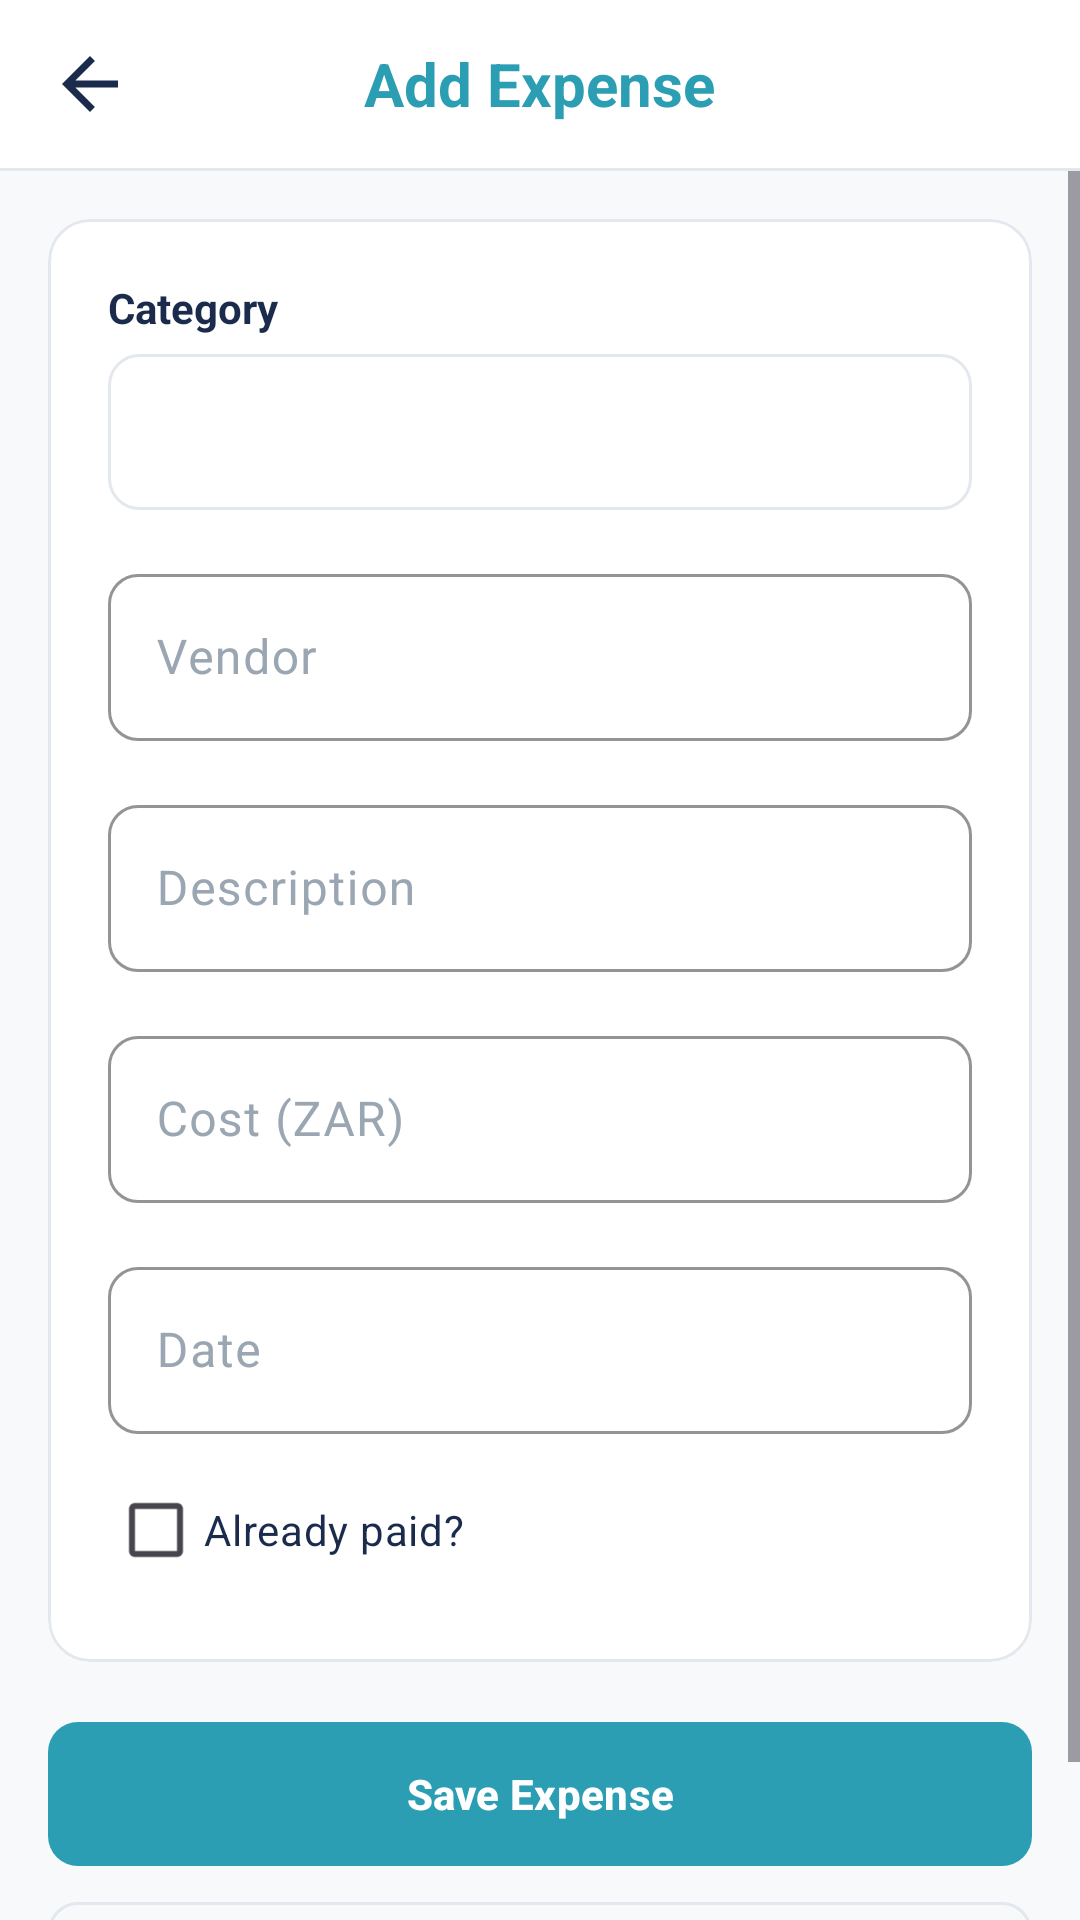

Where to tap for icons on this 1080px x 1920px app screen, as [x,y]:
Back: [90,84]
